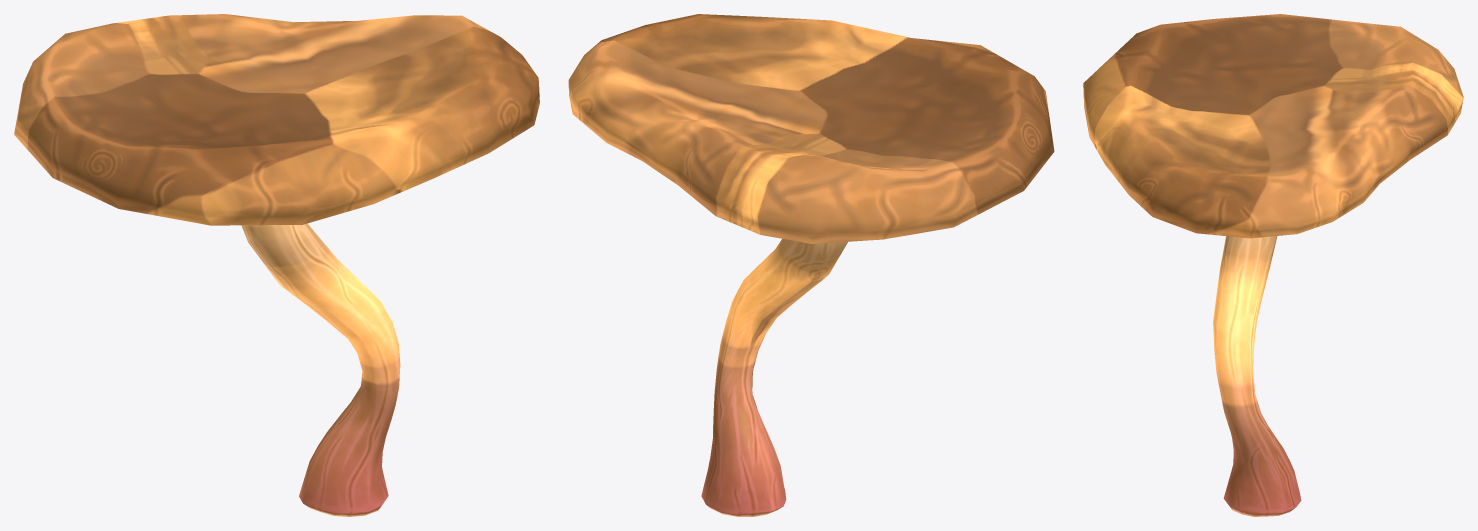
The model's file is SM_Stylized_Big_Mushroom_02.fbx.
The picture shows the model from 3 angles, left to right: view 1: azimuth 30°, elevation 25°; view 2: azimuth 150°, elevation 25°; view 3: azimuth 270°, elevation 25°; orthographic projection. The views are drawn at different scales.
Parts seen in each view (by area): view 1: SM_Stylized_Big_Mushroom_02_LOD0; view 2: SM_Stylized_Big_Mushroom_02_LOD0; view 3: SM_Stylized_Big_Mushroom_02_LOD0.
Part boxes in pixels (<box>): SM_Stylized_Big_Mushroom_02_LOD0: <box>14,14,539,516</box>; SM_Stylized_Big_Mushroom_02_LOD0: <box>568,14,1054,516</box>; SM_Stylized_Big_Mushroom_02_LOD0: <box>1083,14,1463,516</box>.
Size of the model in its own units: 280 by 232 by 263.
